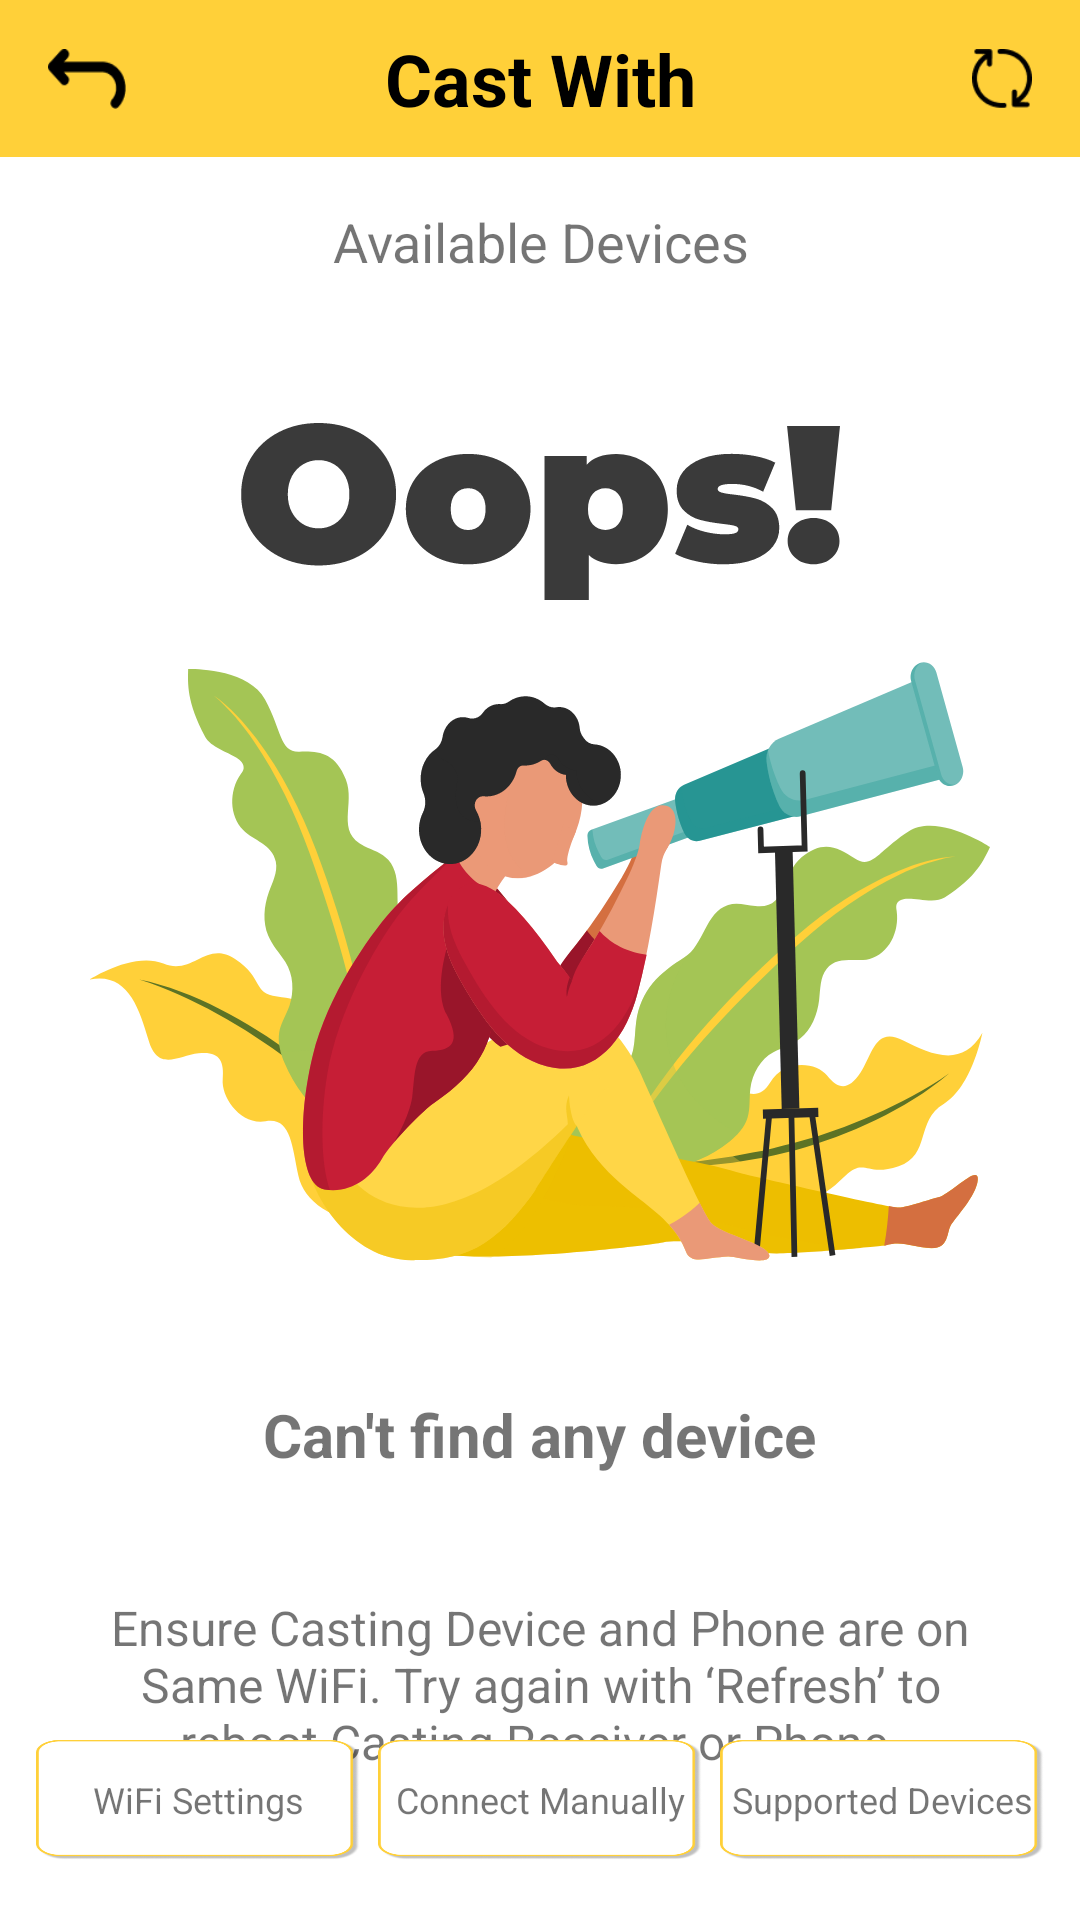

Screen size 1080x1920. Icon name, then its center in pixels as point (x, y):
back: point (87, 79)
refresh: point (1002, 78)
